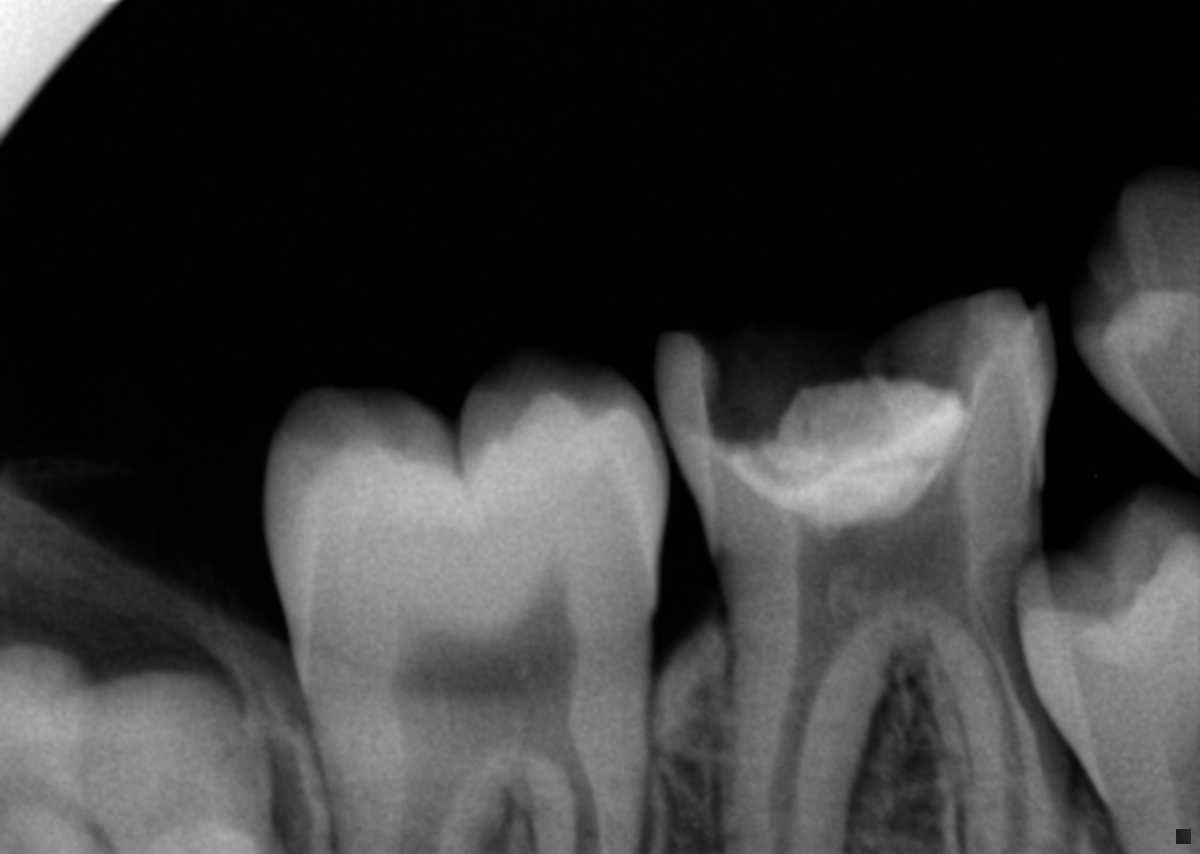Distal Canal: (769, 638, 851, 854)
Distal Root: (721, 613, 900, 854), (325, 762, 504, 854)
Mesial Canal: (961, 602, 1028, 854)
Mesial Root: (925, 567, 1080, 854), (518, 734, 650, 854)
